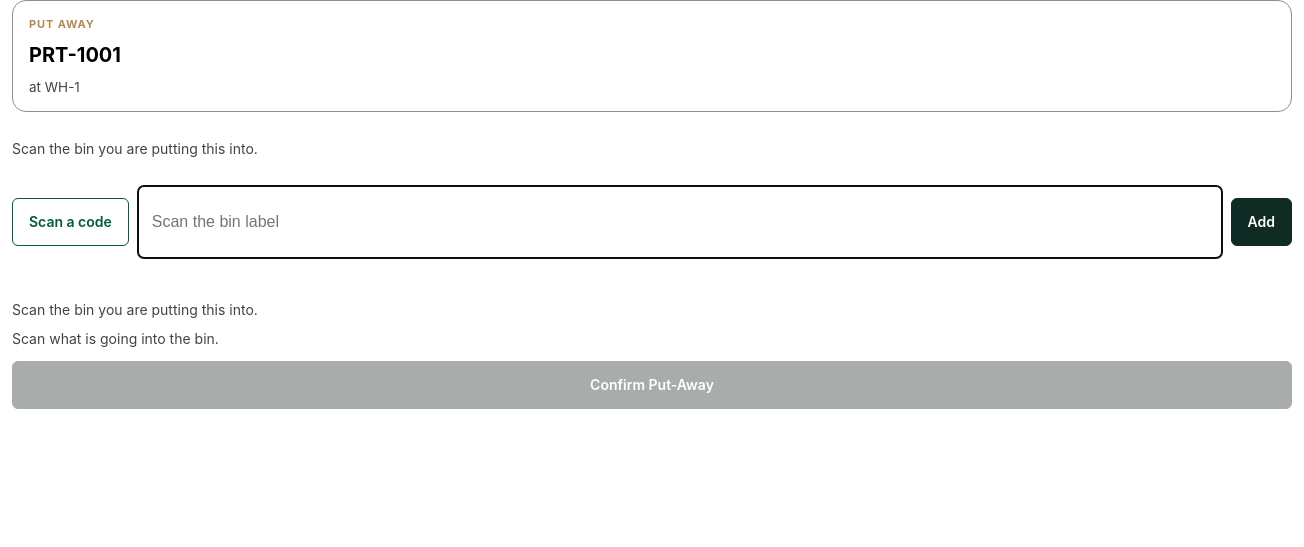
finishing a stow while disconnected › and the operator is told it is NOT done — in those words
In the field named "scan bin": (680, 222) [137,185,1223,259], type "A-14"
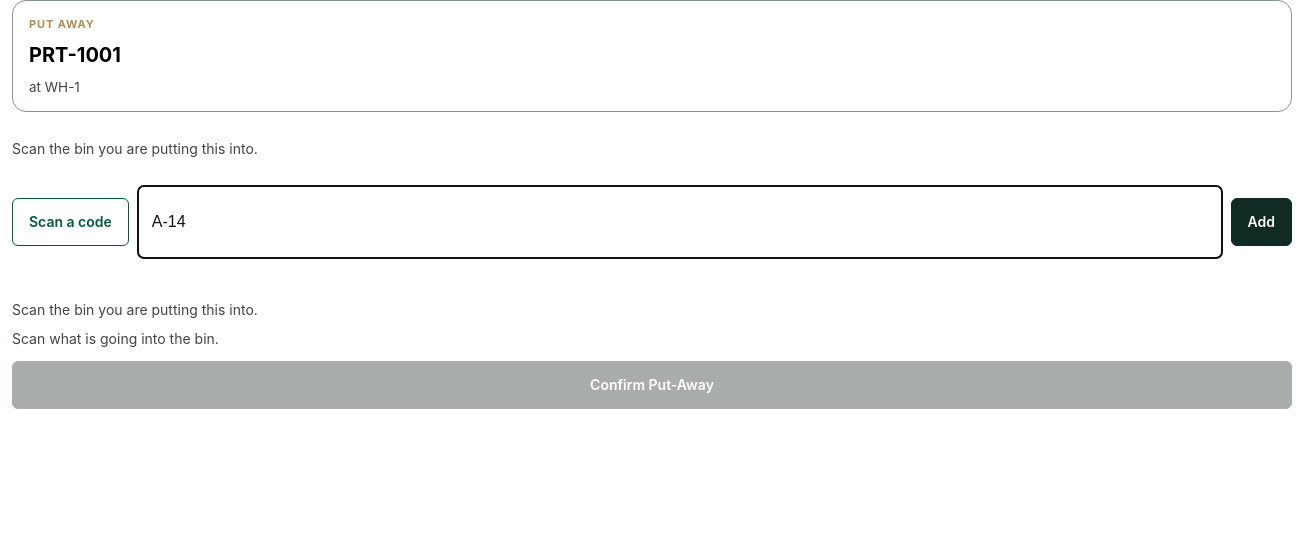
Click the button "Add": (1261, 222) [1230,198,1292,246]
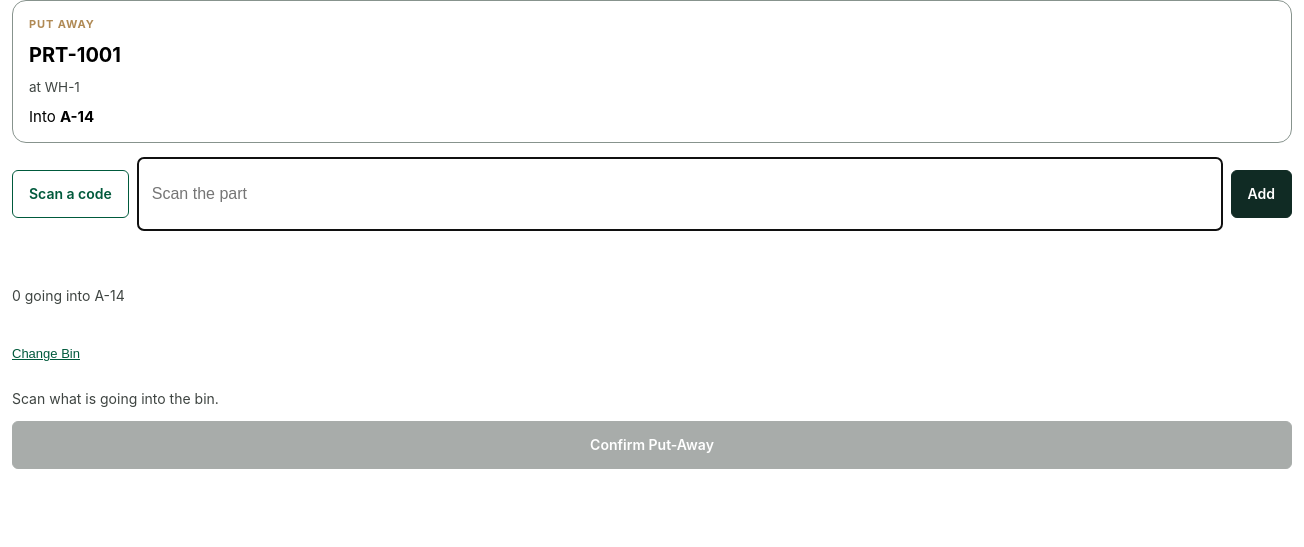
Expected: the field named "scan item" is shown
In the field named "scan item": (680, 194) [137,157,1223,231], type "PRT-1001"
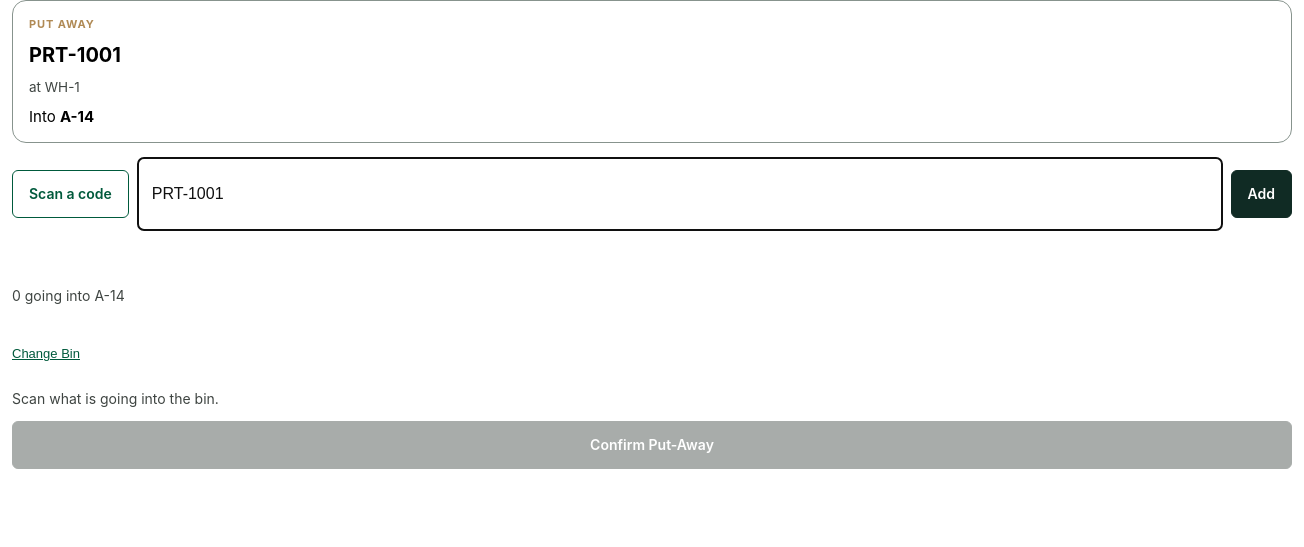
Click the button "Add": (1261, 194) [1230,170,1292,218]
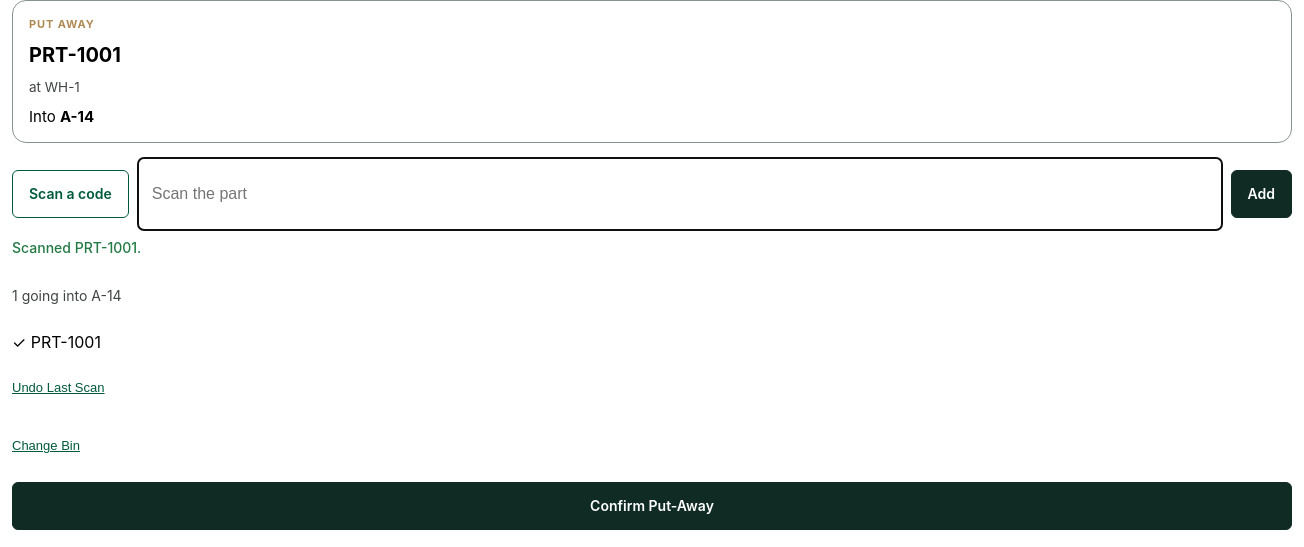
Click the button "Confirm Put-Away": (652, 506) [12,482,1292,530]
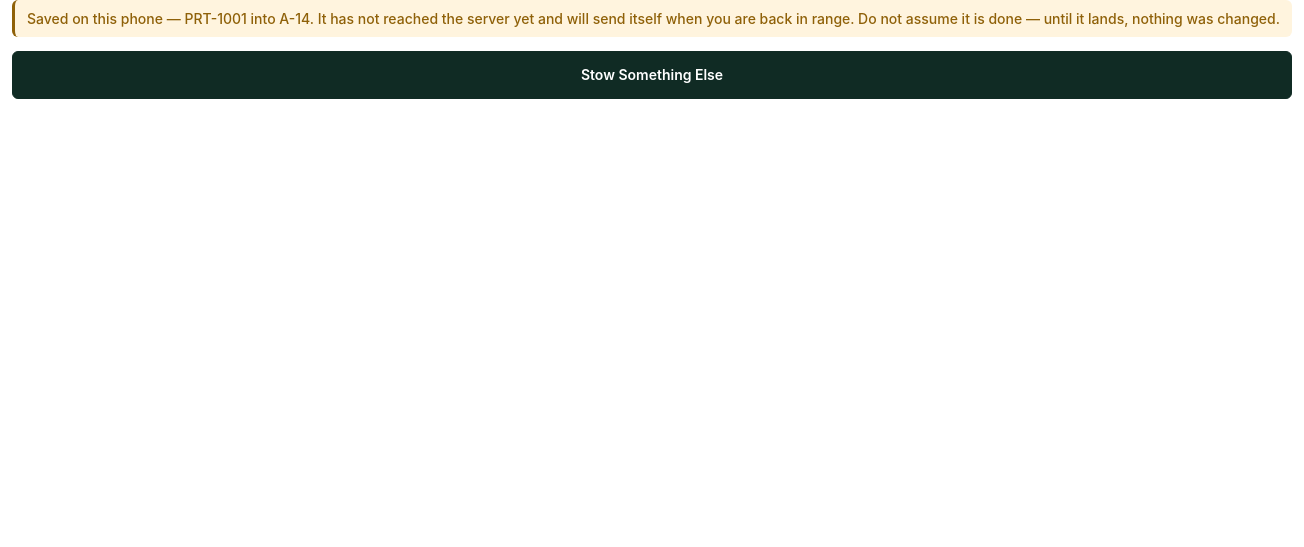
Expected: the message with class "fo-scan__notice" shows "has not reached the server", [310,10,1280,27]
Expected: the message with class "fo-scan__notice" shows "do not assume it is done", [310,10,1280,27]
